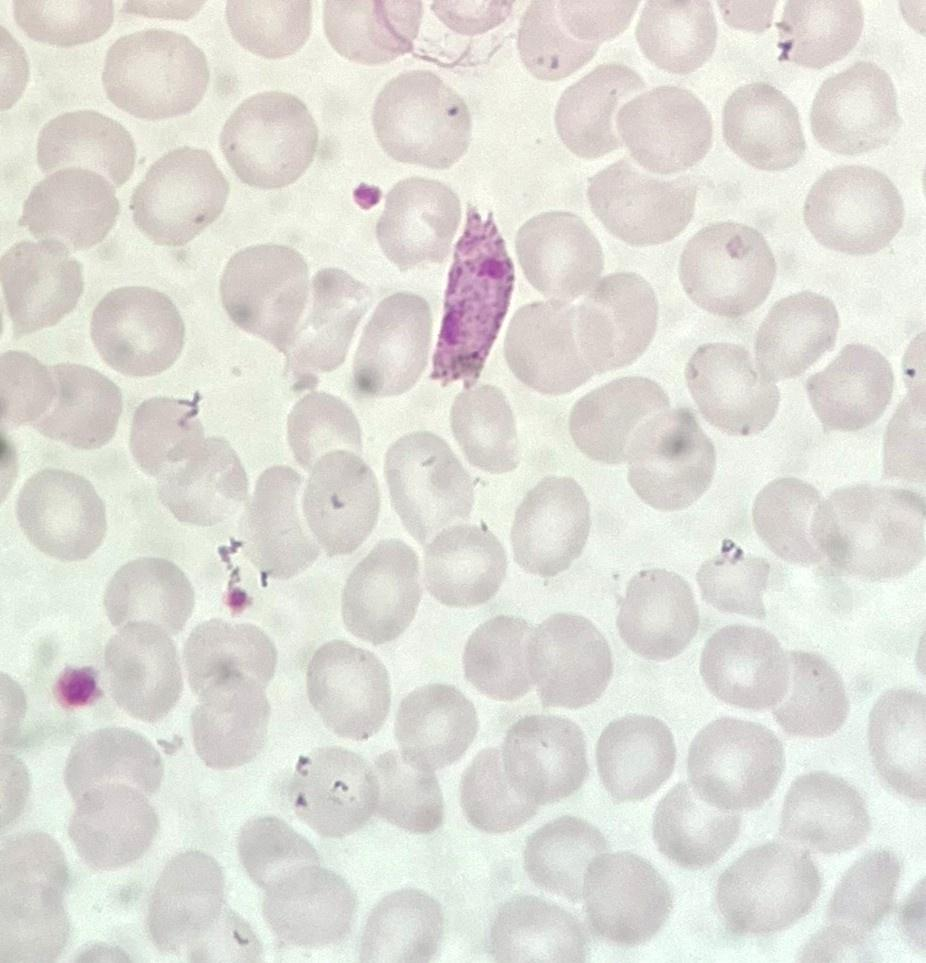Infected: (433, 199, 517, 390)
Uninfected: (812, 484, 922, 582), (218, 242, 312, 353), (381, 430, 473, 540), (616, 406, 715, 508), (369, 69, 470, 168), (128, 149, 228, 248), (501, 297, 603, 394), (284, 268, 372, 380), (101, 28, 208, 118), (550, 62, 647, 161), (683, 714, 784, 809), (715, 842, 816, 935), (566, 376, 668, 468), (241, 463, 322, 578), (219, 91, 317, 186), (678, 220, 777, 314), (802, 164, 904, 255), (587, 161, 696, 246), (612, 84, 711, 175), (300, 448, 384, 555), (98, 620, 185, 723), (88, 284, 183, 378), (144, 852, 230, 955), (255, 859, 354, 948), (19, 164, 119, 252), (496, 714, 589, 808), (808, 63, 902, 156), (578, 849, 670, 944), (344, 537, 423, 647), (152, 437, 246, 529), (690, 341, 781, 436), (63, 727, 161, 815), (14, 468, 106, 561), (350, 293, 433, 396), (179, 616, 276, 704), (805, 339, 897, 431), (67, 778, 161, 868), (304, 643, 392, 739), (288, 745, 380, 835), (530, 613, 617, 707), (507, 481, 591, 578), (33, 361, 124, 449), (33, 108, 134, 187), (698, 624, 791, 709), (512, 211, 601, 299), (614, 569, 699, 661), (418, 523, 507, 610), (373, 179, 462, 266), (516, 2, 615, 80), (752, 293, 837, 383), (2, 238, 84, 331), (581, 272, 660, 368), (187, 679, 272, 768), (720, 81, 805, 170), (751, 476, 832, 567), (459, 744, 543, 831), (128, 394, 211, 480), (593, 715, 676, 800), (520, 815, 605, 898), (651, 784, 739, 864), (100, 557, 190, 635), (777, 771, 864, 851), (394, 683, 475, 767), (365, 749, 446, 833), (460, 616, 539, 702), (767, 653, 847, 736), (489, 894, 586, 961), (283, 390, 364, 470), (448, 384, 520, 473), (694, 543, 771, 621), (634, 1, 717, 73), (237, 815, 318, 887), (357, 892, 440, 960), (321, 0, 406, 63)
